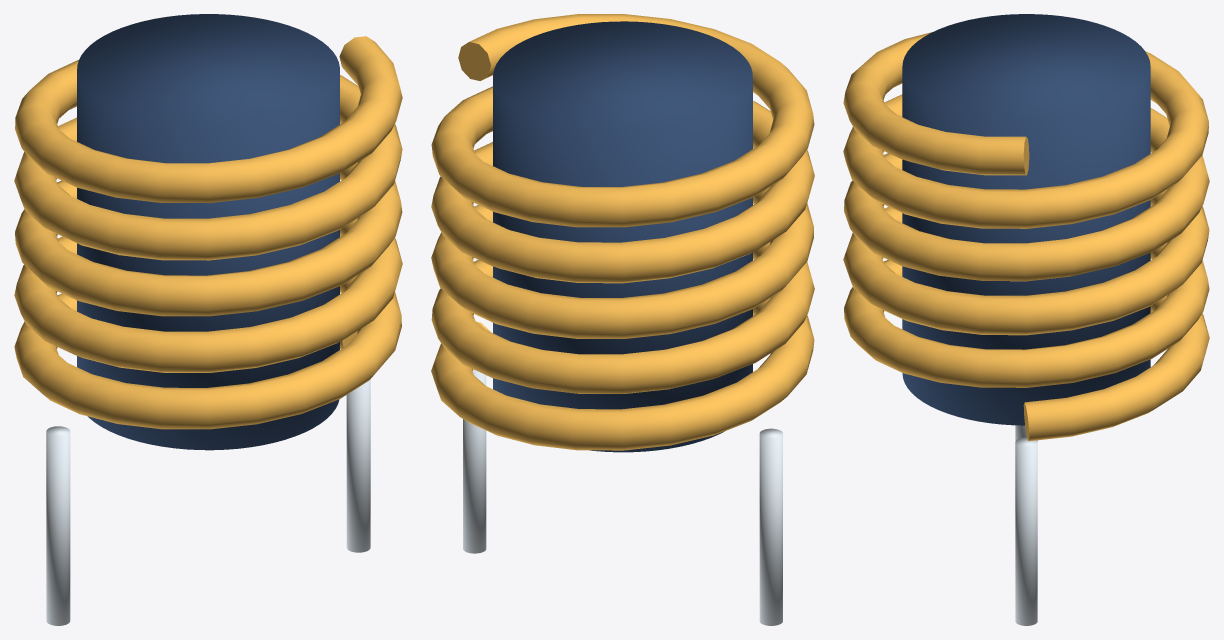
The model's file is electronic-inductor-quality.glb.
The picture shows the model from 3 angles, left to right: view 1: azimuth 30°, elevation 25°; view 2: azimuth 150°, elevation 25°; view 3: azimuth 270°, elevation 25°; orthographic projection. The views are drawn at different scales.
Parts seen in each view (by area): view 1: Core; view 2: Core; view 3: Core.
Part boxes in pixels (x1=…): Core: x1=14, y1=14, x2=402, y2=625; Core: x1=431, y1=14, x2=814, y2=625; Core: x1=843, y1=14, x2=1209, y2=625.
Size of the model in its own units: 0.6498 by 0.95 by 0.6499.
